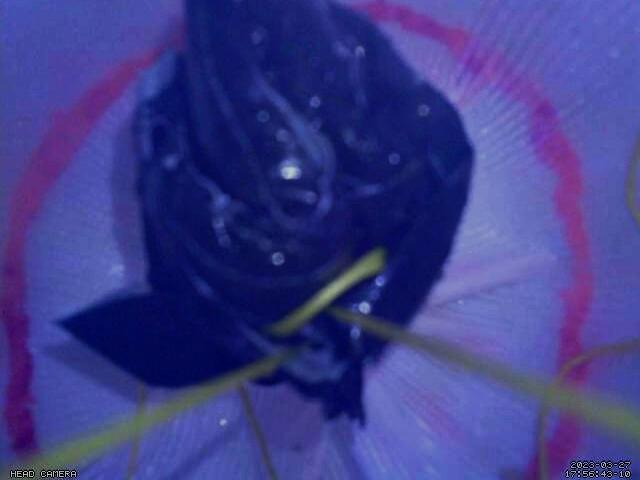head: (0, 1, 595, 480)
